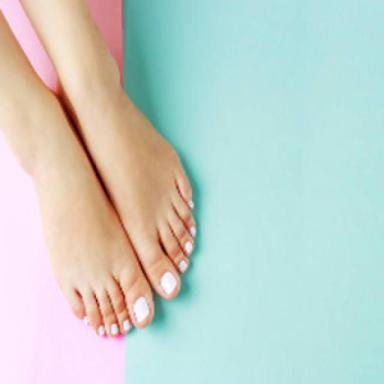normal skin: (0, 0, 195, 336)
